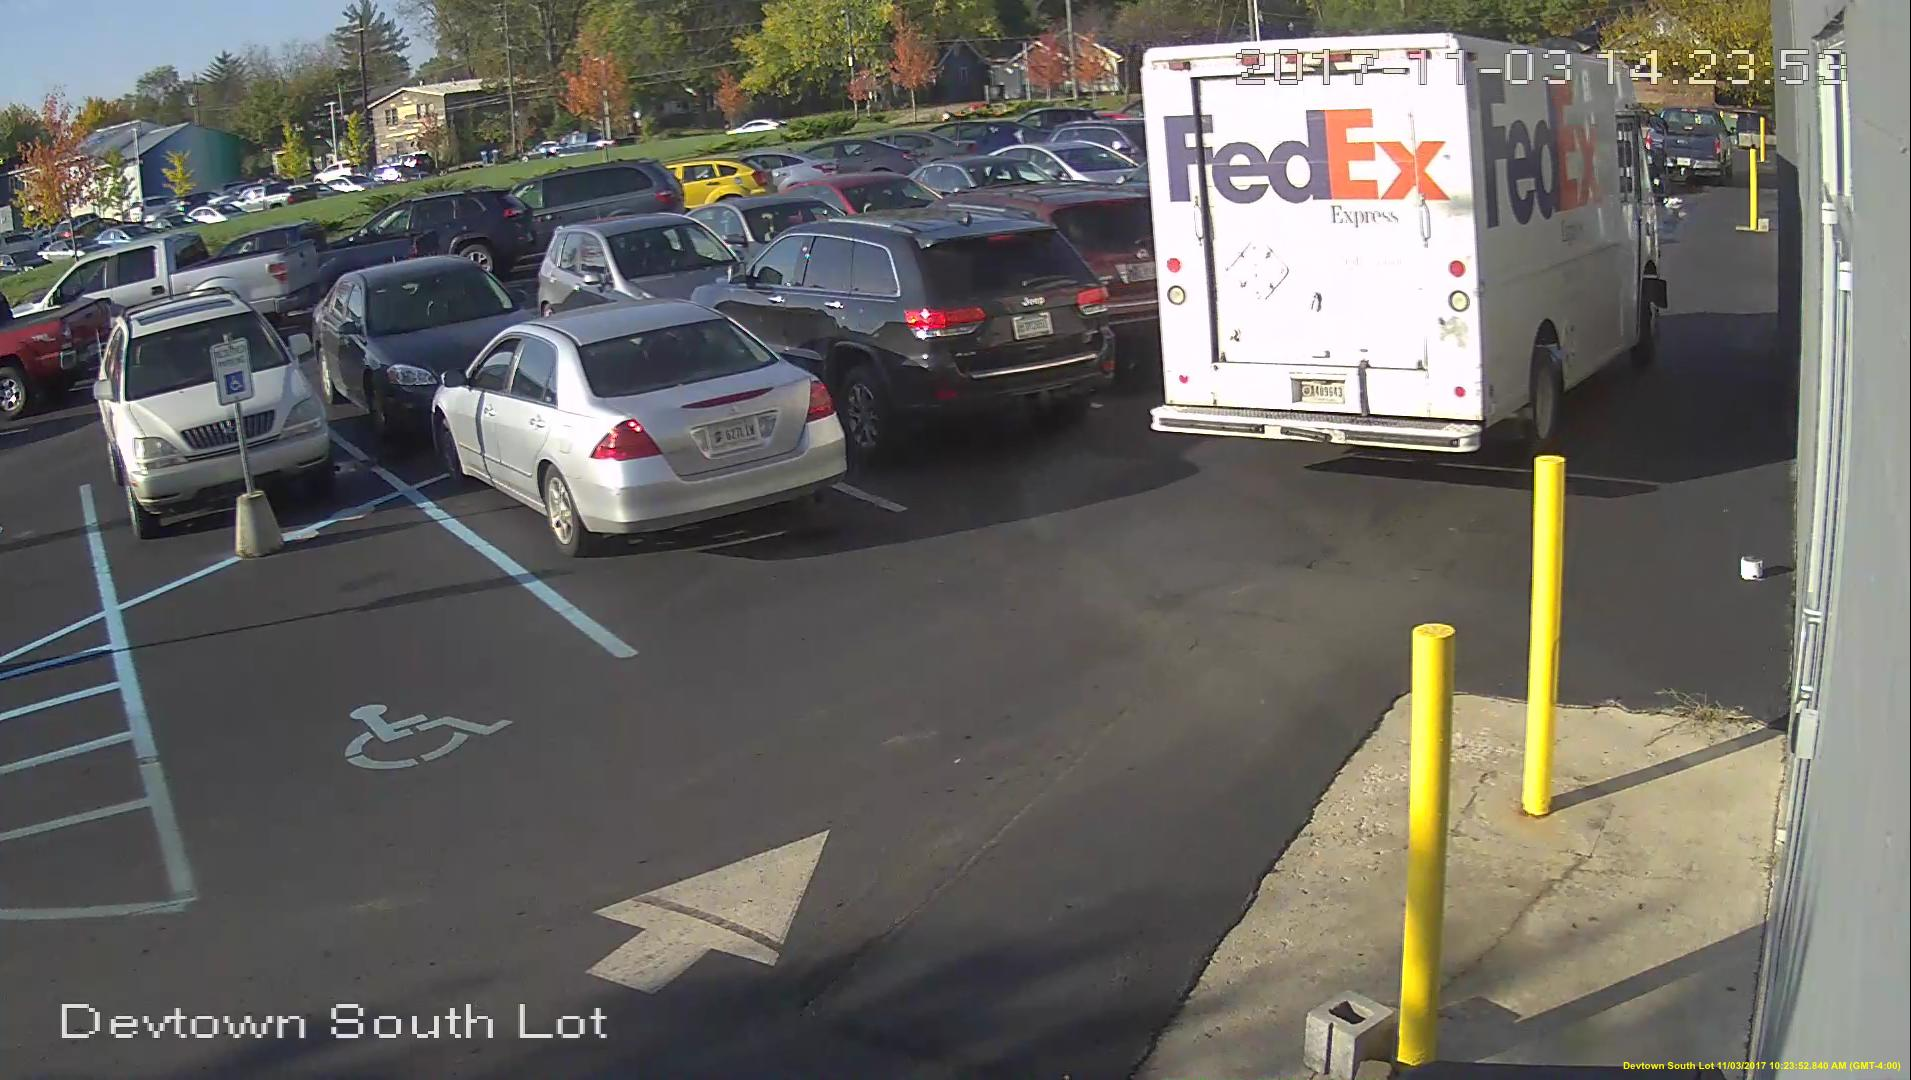fedex_truck: (1133, 26, 1672, 459)
